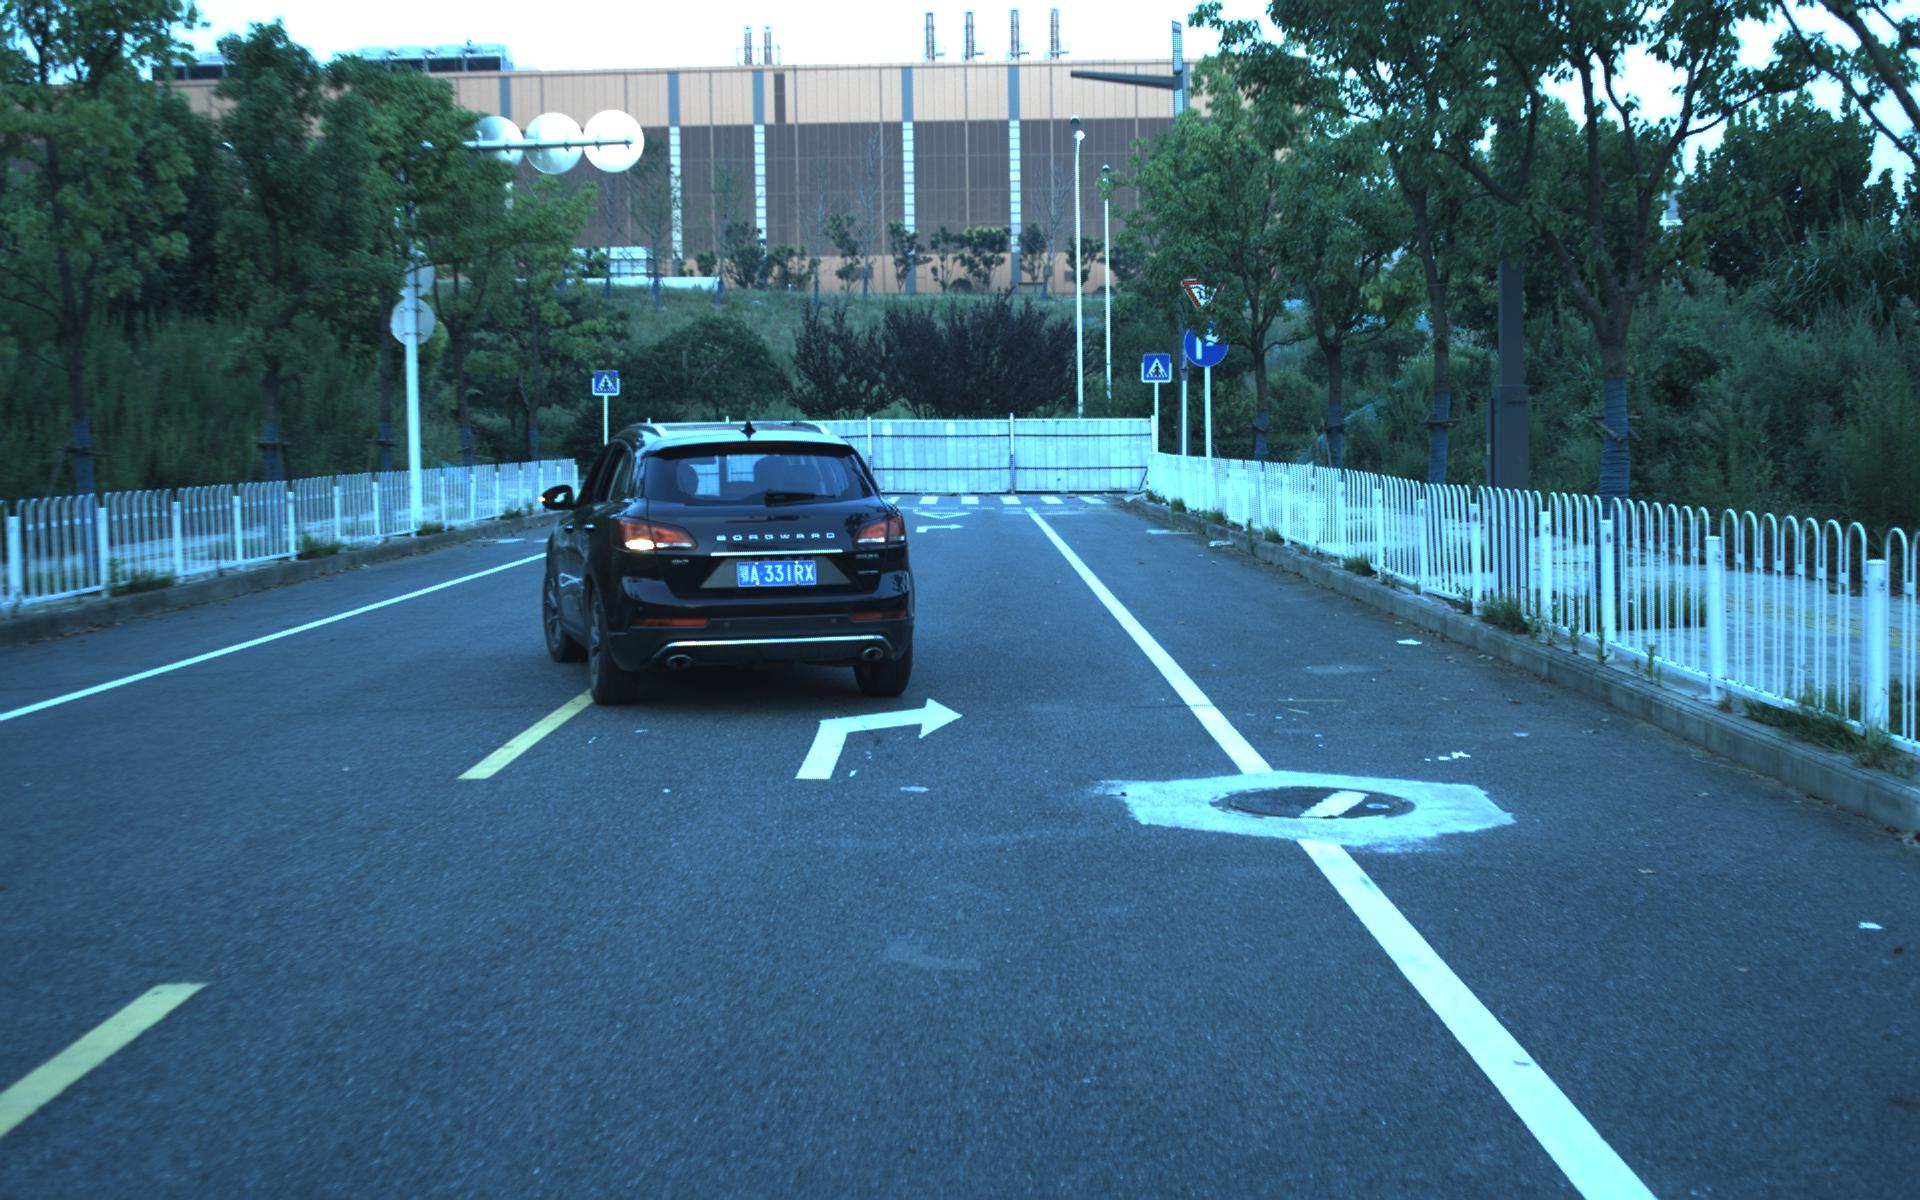Car: (536, 408, 928, 718)
